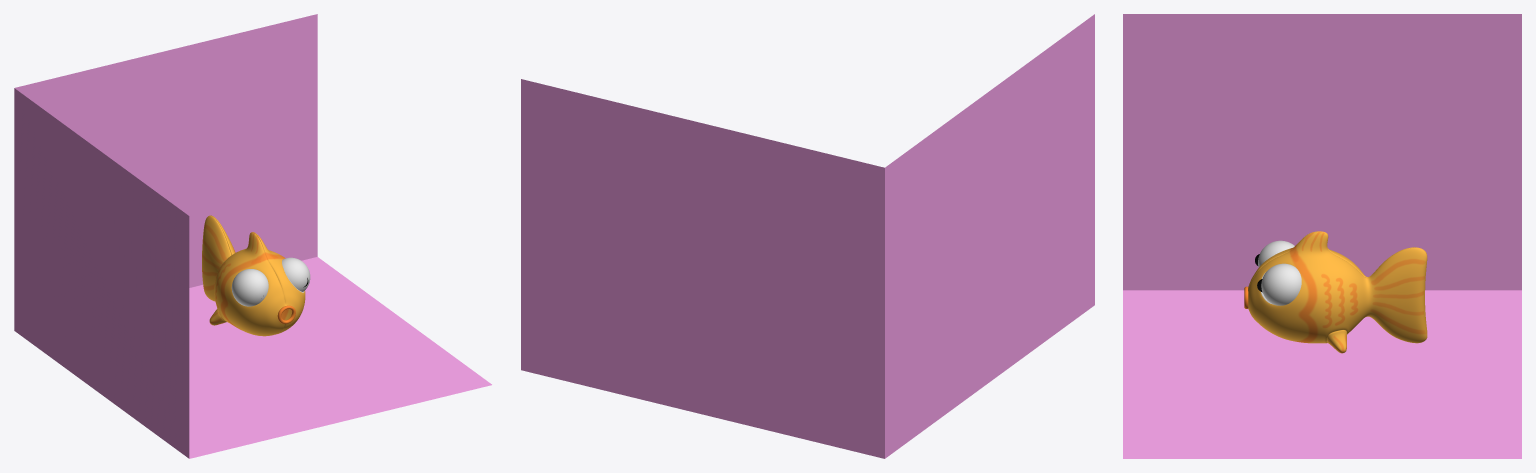
File: fish.fbx
3 renders of one model, left to right at view 1: azimuth 30°, elevation 25°; view 2: azimuth 150°, elevation 25°; view 3: azimuth 270°, elevation 25°, orthographic. The views are drawn at different scales.
Visible parts, largest first — view 1: Cube, fish body, left eye, right eye; view 2: Cube; view 3: Cube, fish body, right eye, left eye.
Part boxes in pixels (x1=…): Cube: x1=14, y1=14, x2=491, y2=458; fish body: x1=202, y1=215, x2=305, y2=336; left eye: x1=231, y1=269, x2=268, y2=306; right eye: x1=282, y1=257, x2=310, y2=291; Cube: x1=521, y1=14, x2=1094, y2=458; Cube: x1=1123, y1=14, x2=1521, y2=458; fish body: x1=1248, y1=231, x2=1427, y2=353; right eye: x1=1261, y1=263, x2=1301, y2=305; left eye: x1=1258, y1=240, x2=1294, y2=267.
Bounding box in the file's own units: 771 × 590 × 771.
6 materials, 1 textured.
